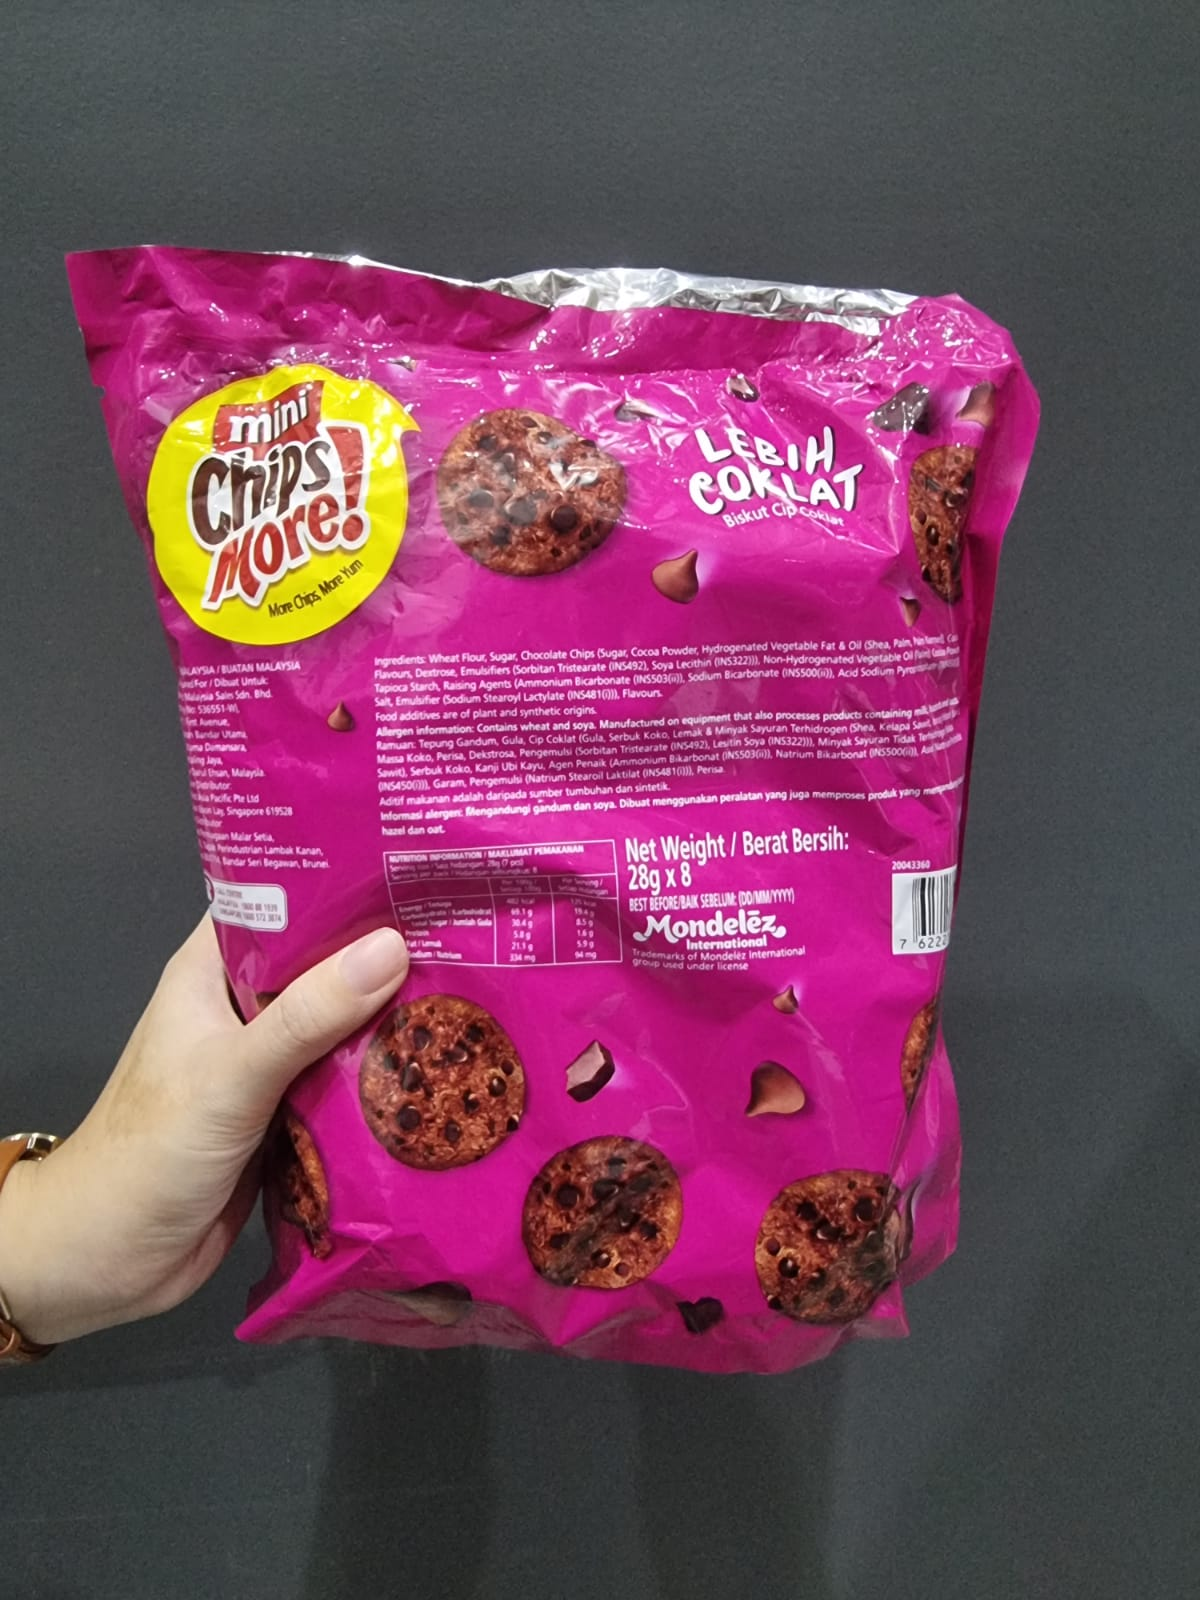Biscuits: (258, 299, 958, 1338)
